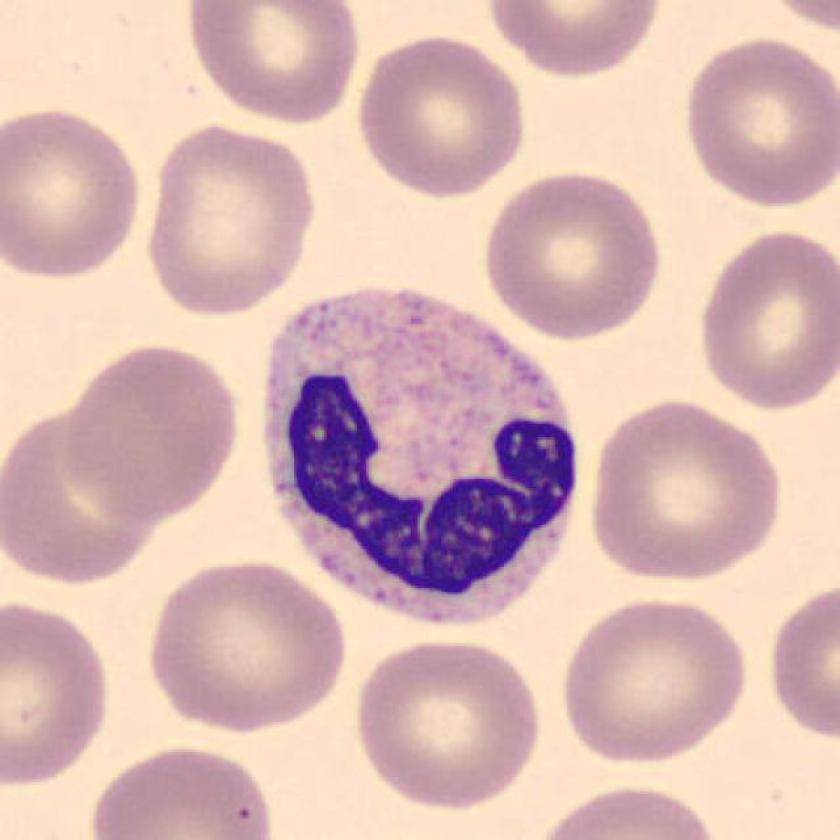neutrophil: (264, 289, 577, 625)
